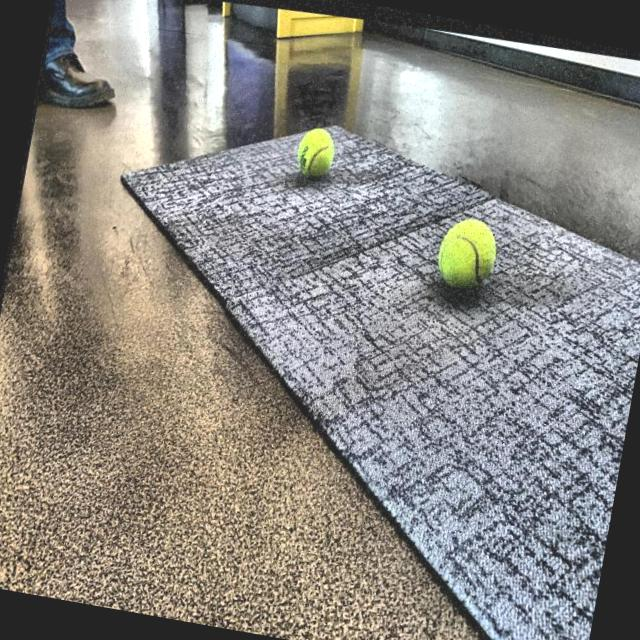Tennis Ball: (430, 202, 504, 301), (288, 109, 350, 188)
